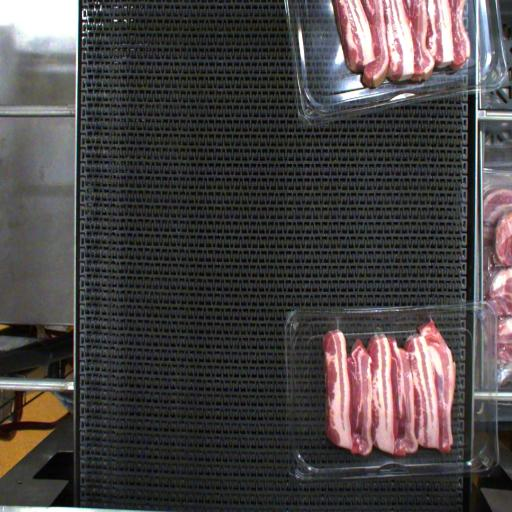packaging-error: (334, 310, 347, 340)
twisted-meat: (428, 323, 466, 402)
